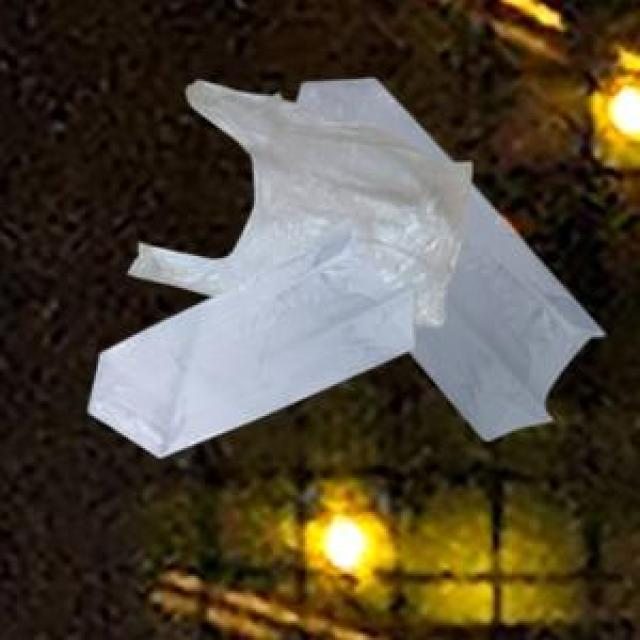litter: (112, 61, 600, 460), (111, 71, 479, 329), (64, 236, 415, 464)
